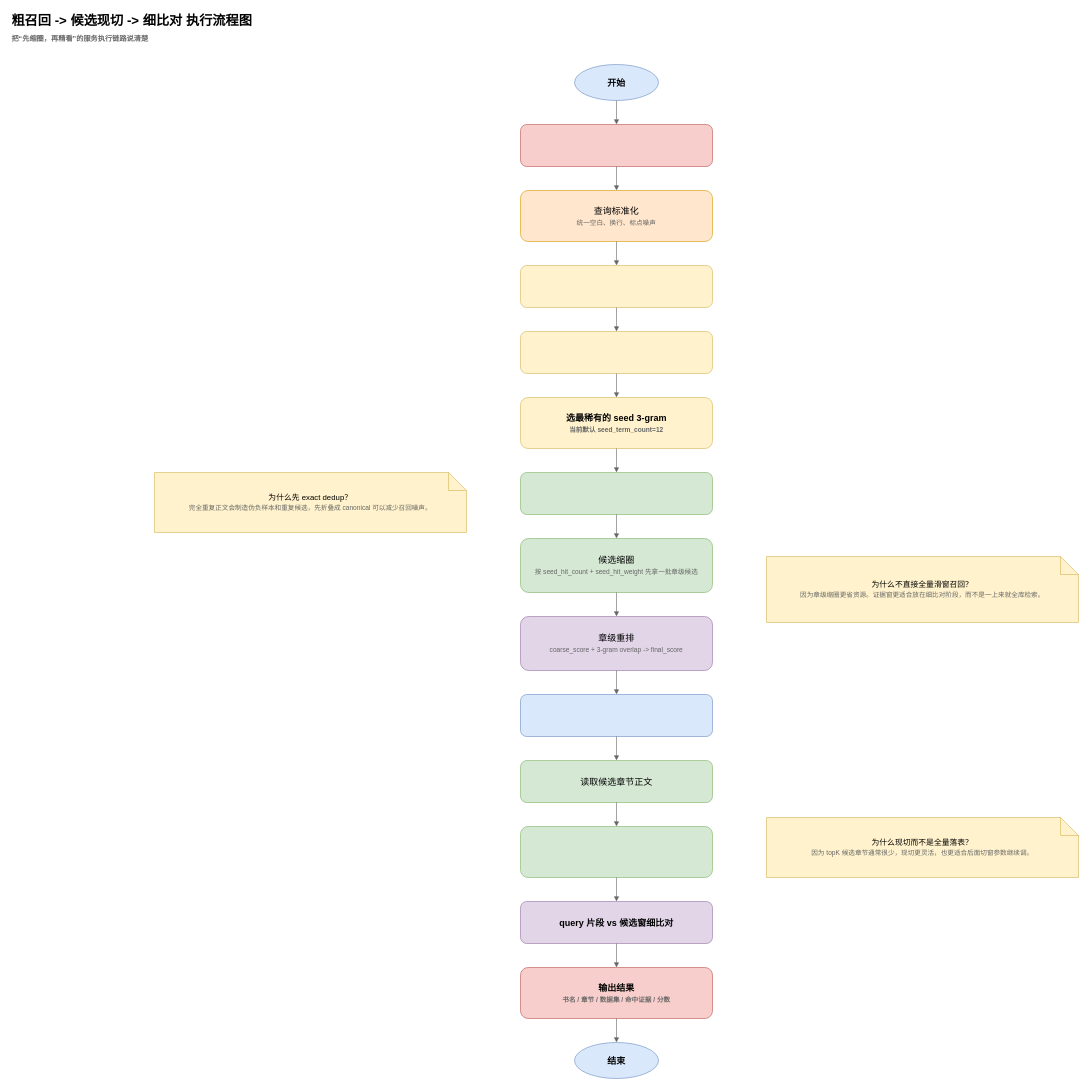
This 1089x1089 diagram has some shape labels left out. The centre of each missing label's shape, as x and y in pixels:
候选章节现切 切 150-300 字证据窗，保留 offset: point (616, 852)
取 topK 候选章节: point (616, 715)
并行命中多个 canonical 索引: point (616, 493)
抽取全部 query 3-gram: point (616, 286)
按 fts5vocab 查文档频次: point (616, 352)
接收 query_text / subtitle_text: point (616, 145)
